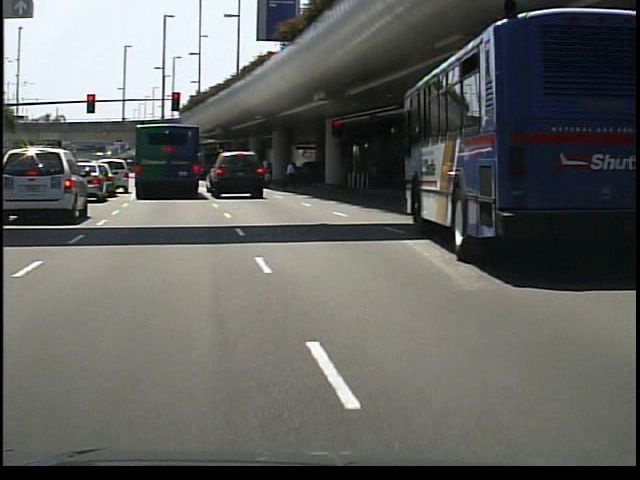person: (283, 157, 303, 194)
